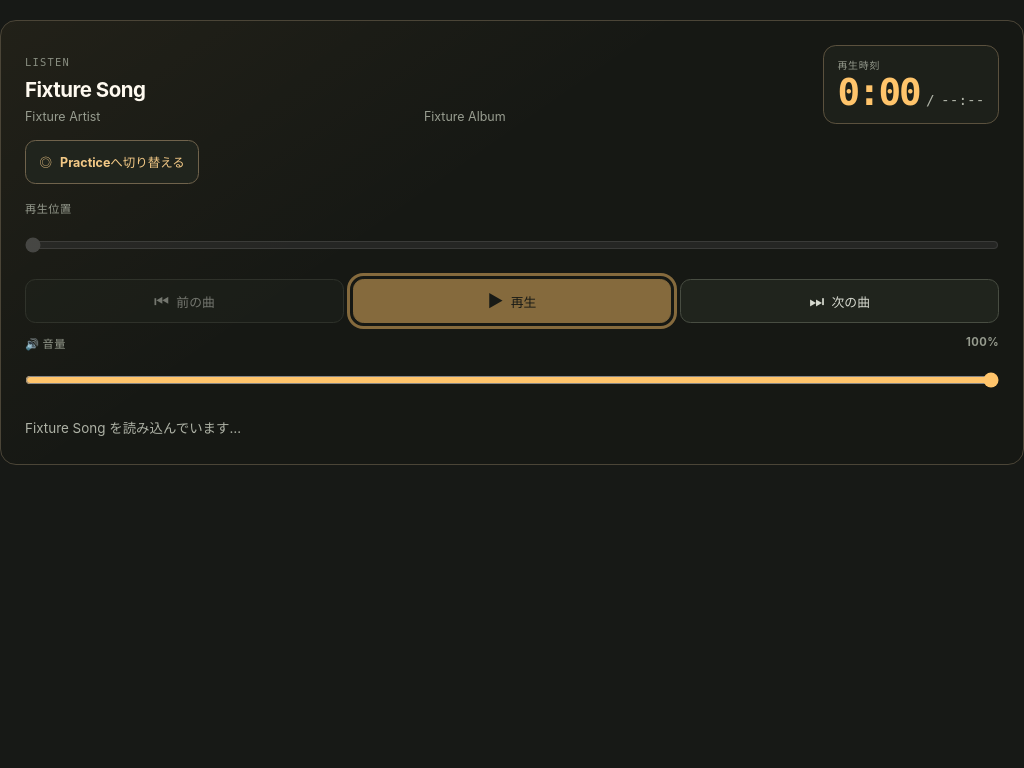
Scenario: ListenPlayer › stays in Practice when normal playback speed cannot be restored
Click the button "◎ Practiceへ切り替える" at (112, 162), box [25,140,199,184]
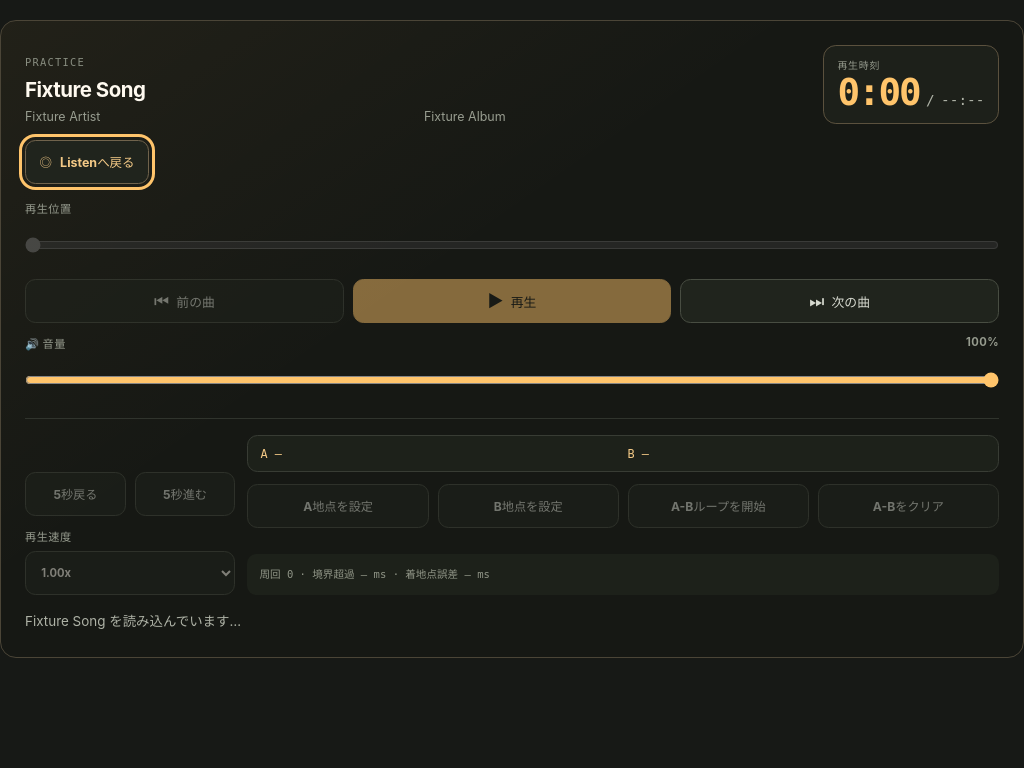
Select "0.80x" in the dropdown labelled "再生速度" at (130, 573), box [25,551,235,595]
Click the button "◎ Listenへ戻る" at (87, 162), box [25,140,149,184]
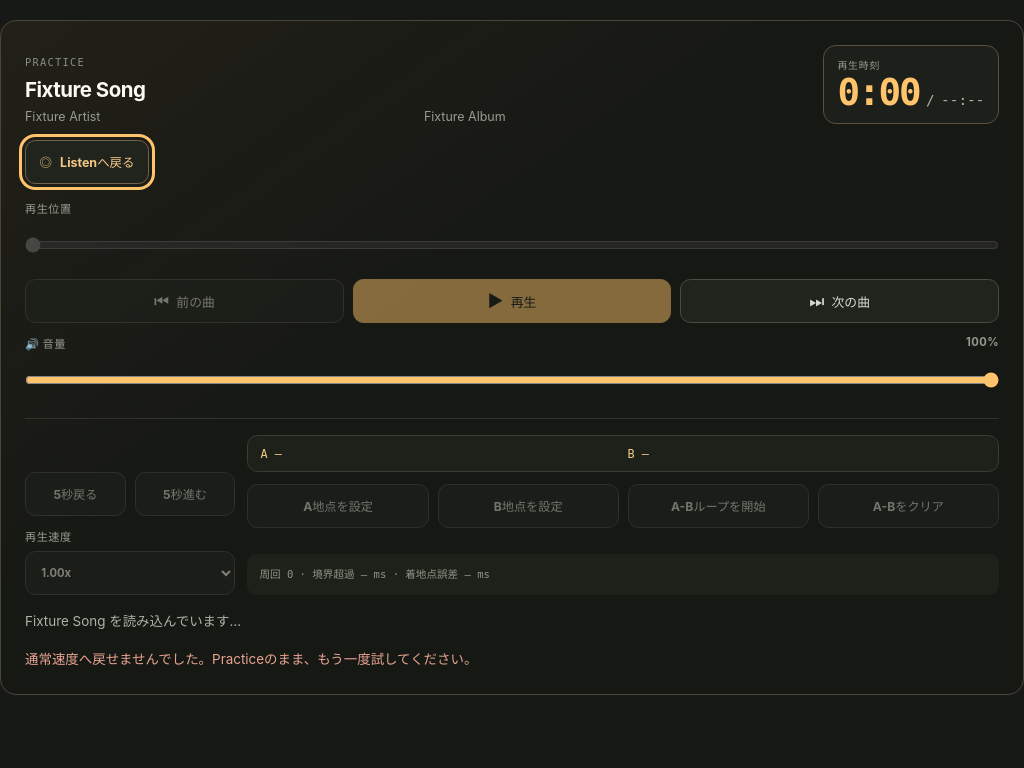
Result: the element named "Fixture Song のPracticeプレイヤー" is shown
Result: the message named "速度変更エラー" shows "通常速度へ戻せませんでした" at [25,650,477,666]
